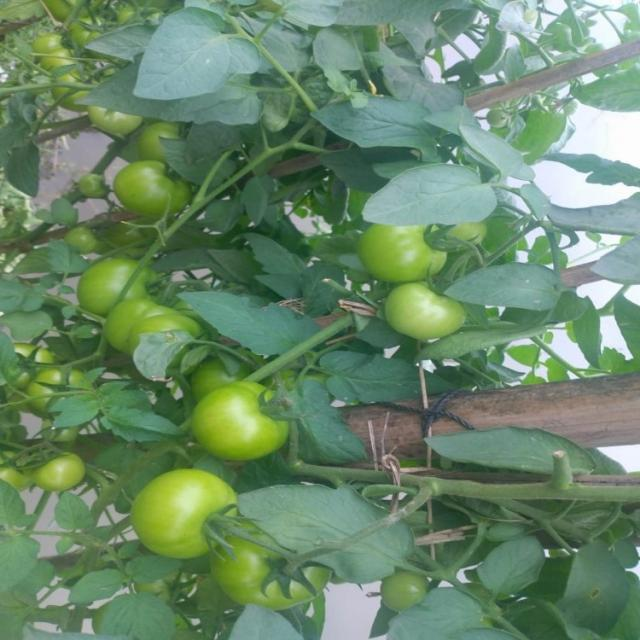tomato: (120, 468, 243, 571), (177, 372, 284, 461), (215, 531, 331, 613), (97, 297, 211, 365), (380, 280, 462, 354), (359, 222, 456, 282), (68, 258, 163, 318), (119, 159, 202, 224), (23, 362, 103, 412), (40, 60, 113, 112), (59, 3, 129, 51), (30, 33, 93, 82), (380, 568, 437, 622), (126, 121, 193, 159), (45, 447, 89, 501), (87, 104, 142, 139), (78, 171, 111, 203), (68, 230, 100, 258)
